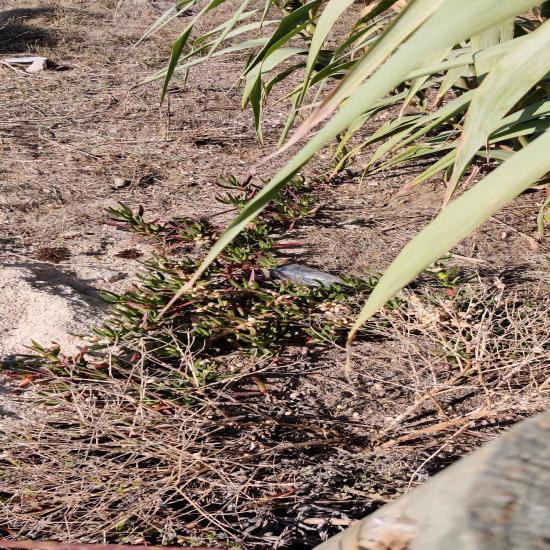Clear plastic bottle: (269, 263, 346, 290)
Plastic lid: (5, 57, 47, 62)
